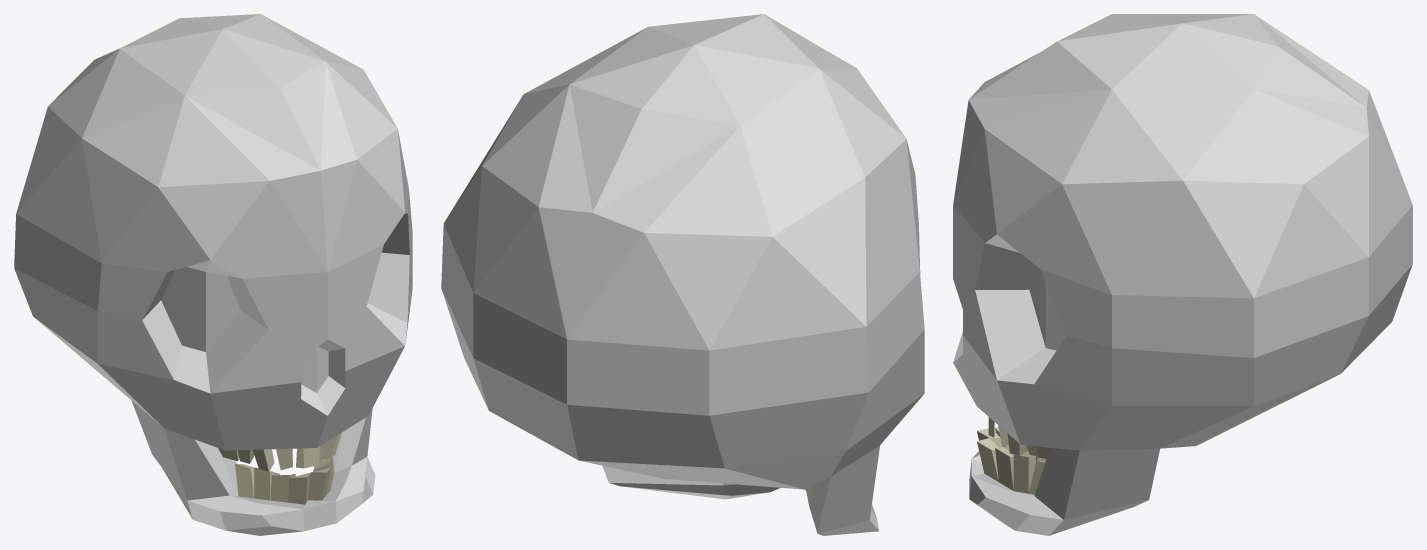
Rendered from Skull.fbx.
3 renders of one model, left to right at view 1: azimuth 30°, elevation 25°; view 2: azimuth 150°, elevation 25°; view 3: azimuth 270°, elevation 25°, orthographic. The views are drawn at different scales.
Parts seen in each view (by area): view 1: Icosphere; view 2: Icosphere; view 3: Icosphere.
Boxes of the visible parts, left/top/right/bottom form: Icosphere: left=14, top=14, right=412, bottom=535; Icosphere: left=441, top=14, right=924, bottom=535; Icosphere: left=953, top=14, right=1412, bottom=535.
Bounding box in the file's own units: 213 × 252 × 220.
